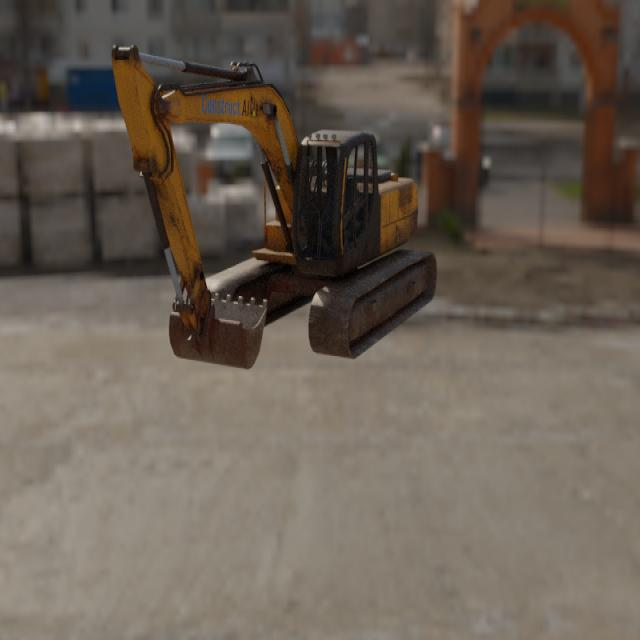excavator: (110, 44, 437, 369)
